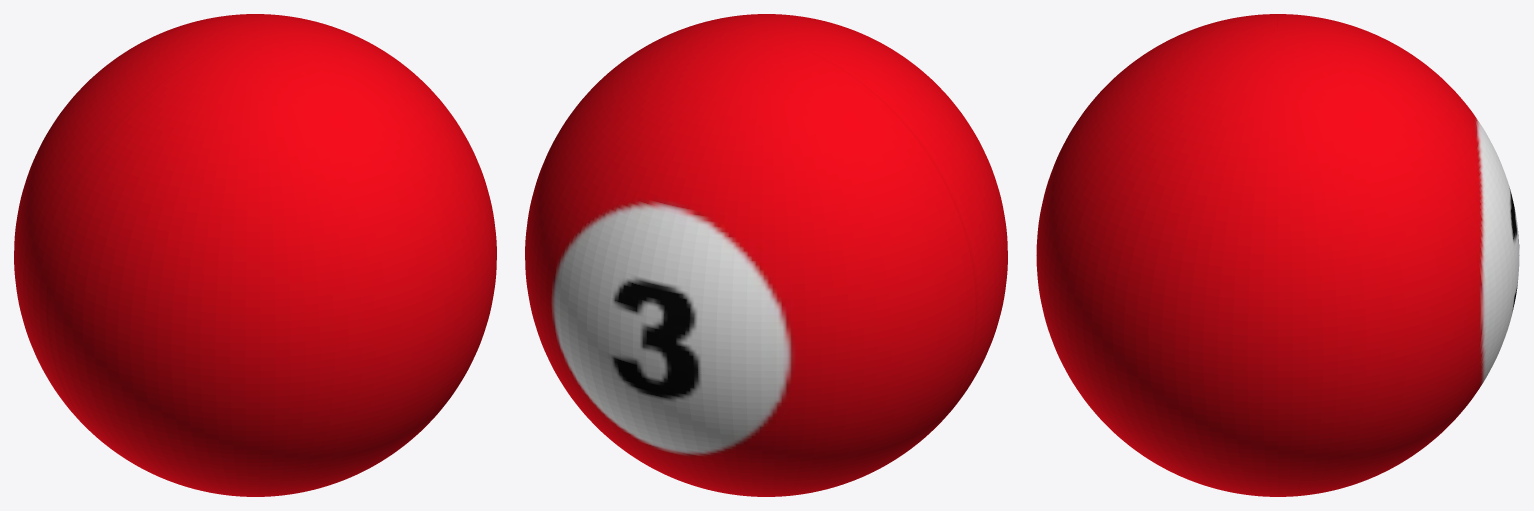
The model's file is ThreeBall.obj.
3 views of the same model, side by side, from view 1: azimuth 30°, elevation 25°; view 2: azimuth 150°, elevation 25°; view 3: azimuth 270°, elevation 25° (orthographic).
Visible parts, largest first — view 1: Sphere; view 2: Sphere; view 3: Sphere.
Boxes of the visible parts, box(x1,y1,x2,y2) form: Sphere: box(14, 14, 496, 496); Sphere: box(525, 14, 1007, 496); Sphere: box(1036, 14, 1519, 496).
Size of the model in its own units: 2 by 2 by 2.
